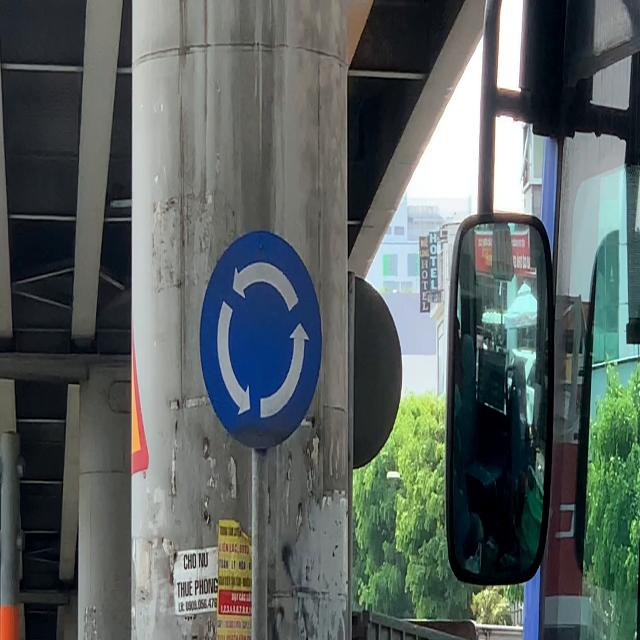R.303: (196, 225, 325, 454)
